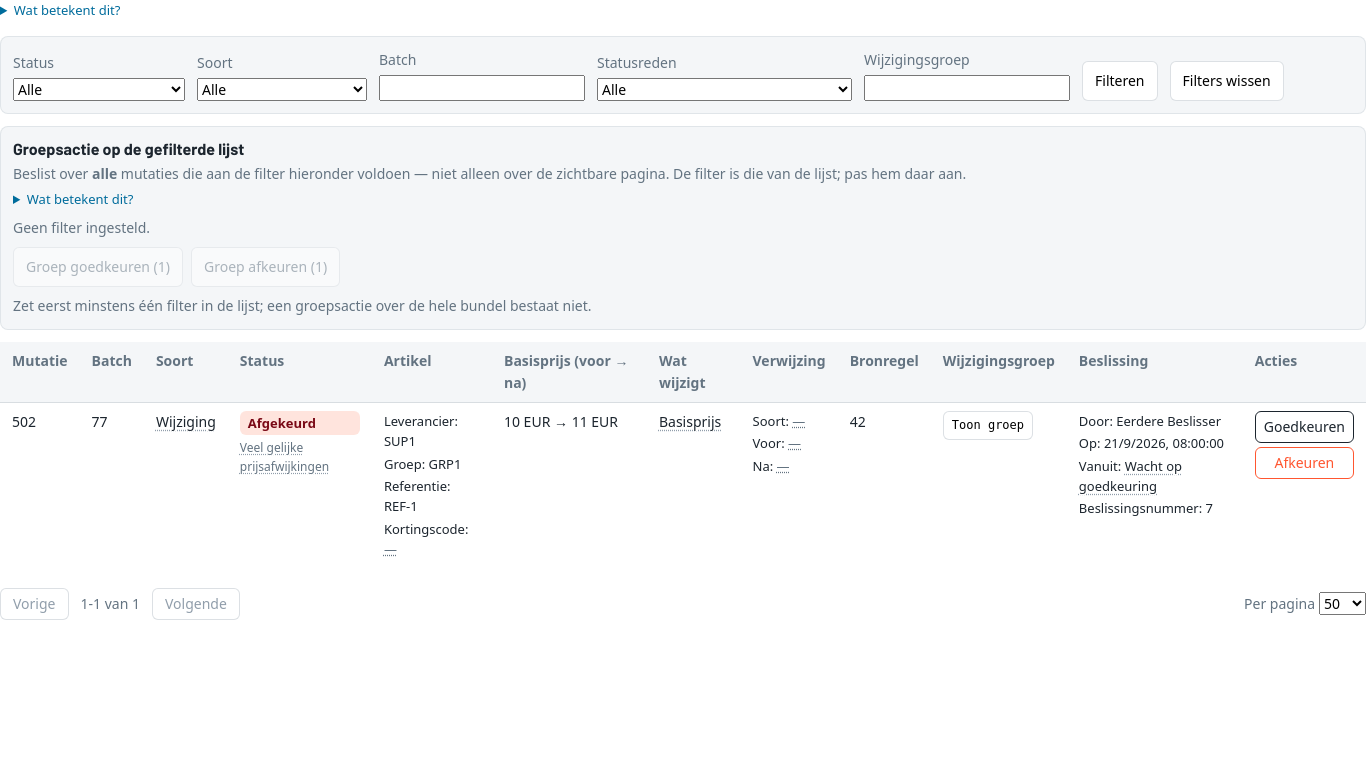
it: BundleMutationsTab › F8.9: een herziening eist een reden, ook bij goedkeuren, en benoemt de eerdere beslissing
Step 1. Click the button with aria-label "Goedkeuren mutatie 502" → [1304, 427], box [1255,411,1354,443]
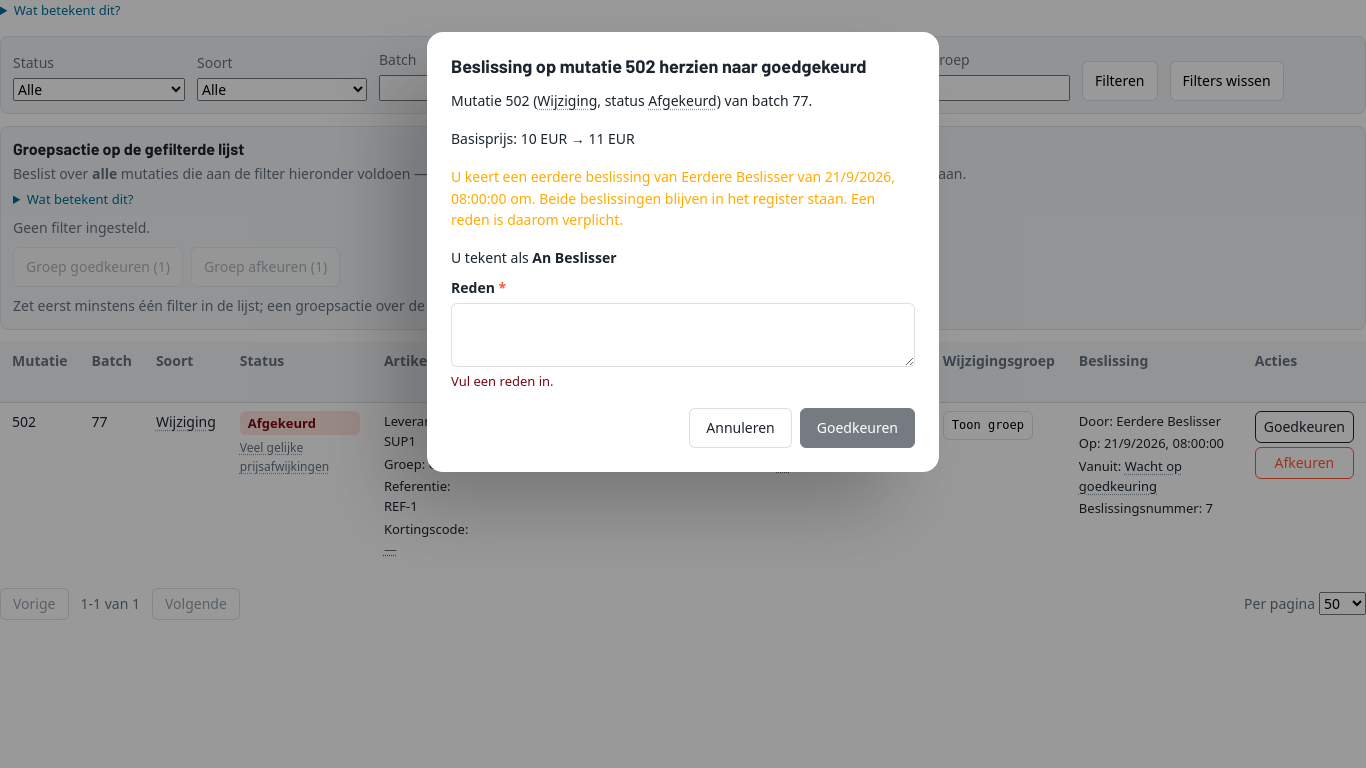
Expected: the heading "Beslissing op mutatie 502 herzien naar goedgekeurd" is shown, [451,56,915,78]
Expected: the text "Eerdere Beslisser" is shown, [681,166,794,186]
Expected: the button "Goedkeuren" is disabled, [800,408,915,448]
Step 2. Type "na overleg toch goedgekeurd" into the text box labelled "Reden *" → [683, 335], box [451,303,915,367]
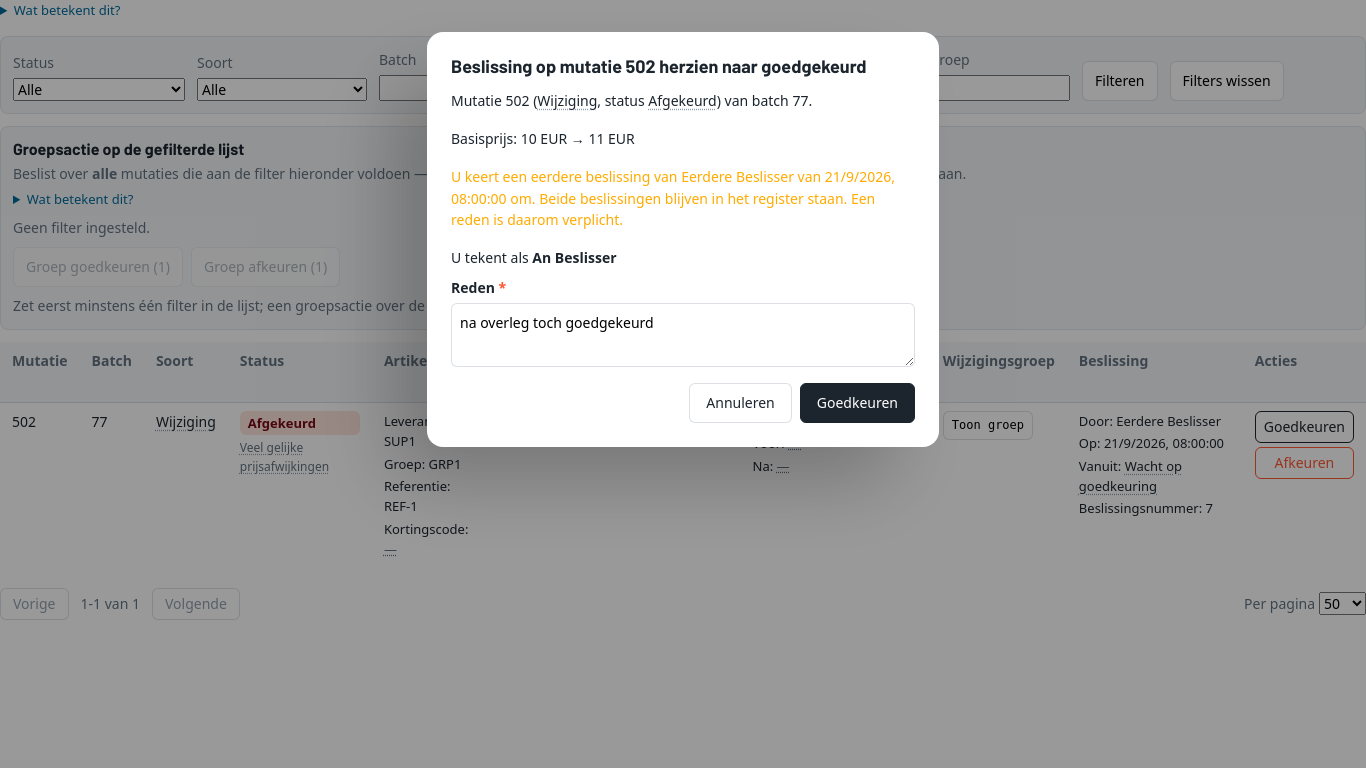
Expected: the button "Goedkeuren" is enabled, [800,383,915,423]
